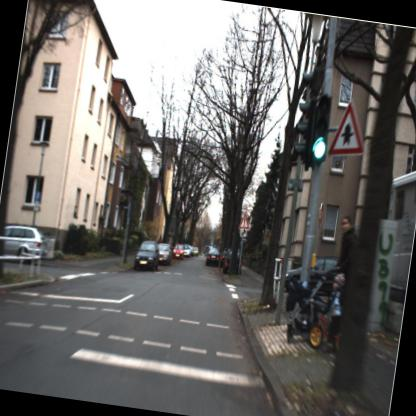danger: (323, 93, 370, 162), (234, 210, 253, 233)
